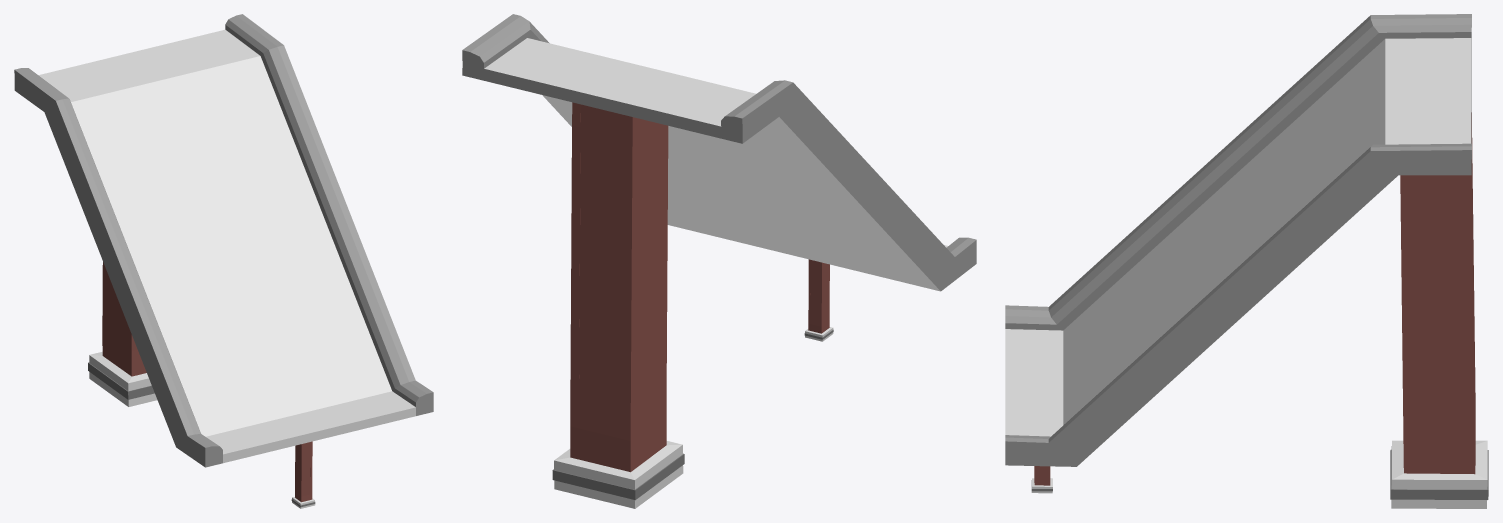
The model's file is Ramp_Model.fbx.
The picture shows the model from 3 angles, left to right: view 1: azimuth 30°, elevation 25°; view 2: azimuth 150°, elevation 25°; view 3: azimuth 270°, elevation 25°; orthographic projection. The views are drawn at different scales.
Visible parts, largest first — view 1: Cube; view 2: Cube; view 3: Cube.
Boxes of the visible parts, <box> form: Cube: <box>14,14,433,508</box>; Cube: <box>462,14,976,508</box>; Cube: <box>1005,14,1488,508</box>.
Size of the model in its own units: 200 by 279 by 300.
